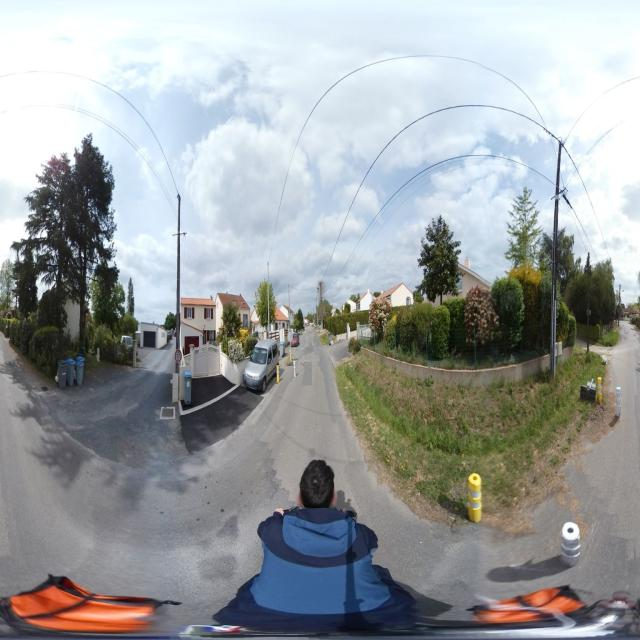car: (243, 347, 275, 394), (347, 322, 377, 348), (255, 338, 274, 361), (290, 332, 300, 348)
